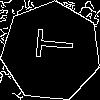T: (26, 26, 75, 61)
